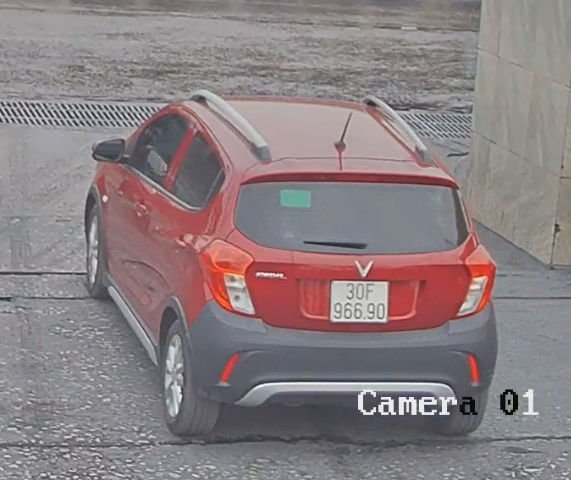vehicle plate: (331, 275, 392, 323)
